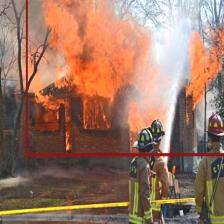fire: (25, 0, 224, 156)
